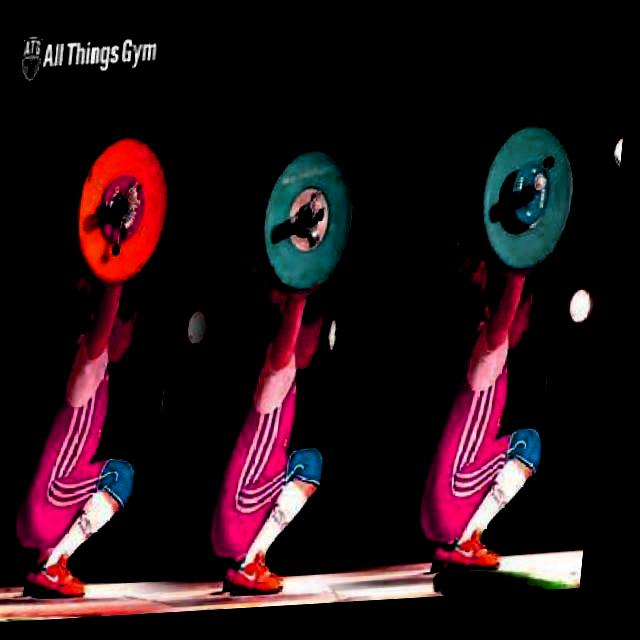barbell: (479, 125, 592, 287), (258, 146, 370, 307), (73, 130, 183, 292)
